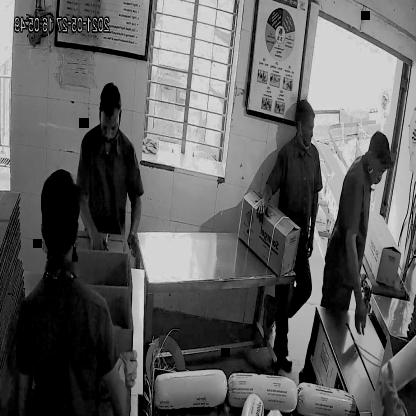no_goggles: (97, 113, 123, 136)
